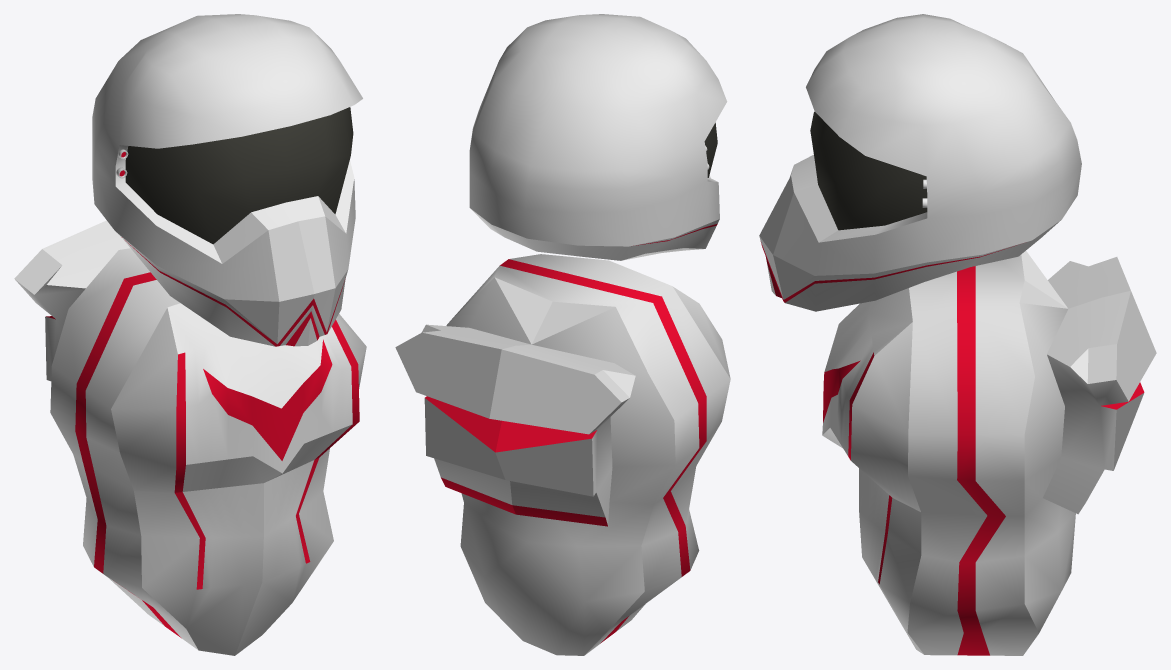
Rendered from player.glb.
3 views of the same model, side by side, from view 1: azimuth 30°, elevation 25°; view 2: azimuth 150°, elevation 25°; view 3: azimuth 270°, elevation 25° (orthographic). The views are drawn at different scales.
Visible parts, largest first — view 1: body, head; view 2: body, head; view 3: body, head.
Part boxes in pixels (<box>): body: <box>14,220,366,655</box>; head: <box>92,14,362,346</box>; body: <box>395,254,730,655</box>; head: <box>469,14,727,260</box>; body: <box>822,251,1156,655</box>; head: <box>759,14,1081,311</box>.
Size of the model in its own units: 0.5099 by 1.17 by 0.688.
